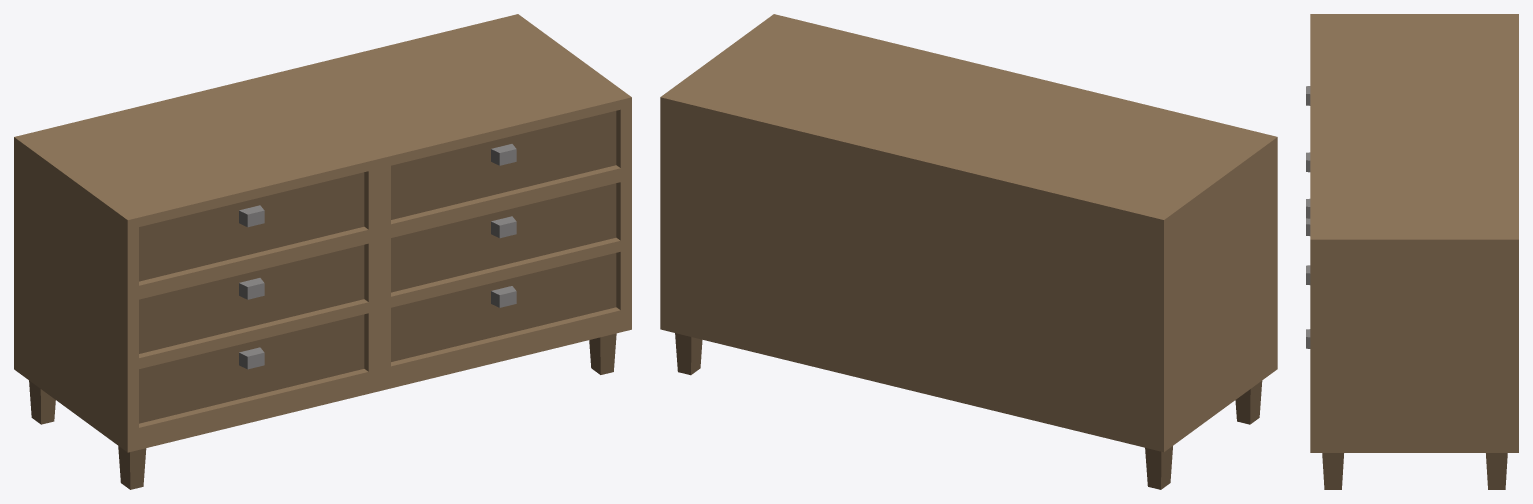
File: SM_Prop_Dresser_03.fbx
3 views of the same model, side by side, from view 1: azimuth 30°, elevation 25°; view 2: azimuth 150°, elevation 25°; view 3: azimuth 270°, elevation 25° (orthographic). The views are drawn at different scales.
Parts seen in each view (by area): view 1: SM_Prop_Dresser_03; view 2: SM_Prop_Dresser_03; view 3: SM_Prop_Dresser_03.
Part boxes in pixels (box(x1,y1,x2,y2)): SM_Prop_Dresser_03: box(14, 14, 631, 489); SM_Prop_Dresser_03: box(660, 14, 1277, 489); SM_Prop_Dresser_03: box(1306, 14, 1518, 489).
Bounding box in the file's own units: 187 × 98.72 × 74.71.
